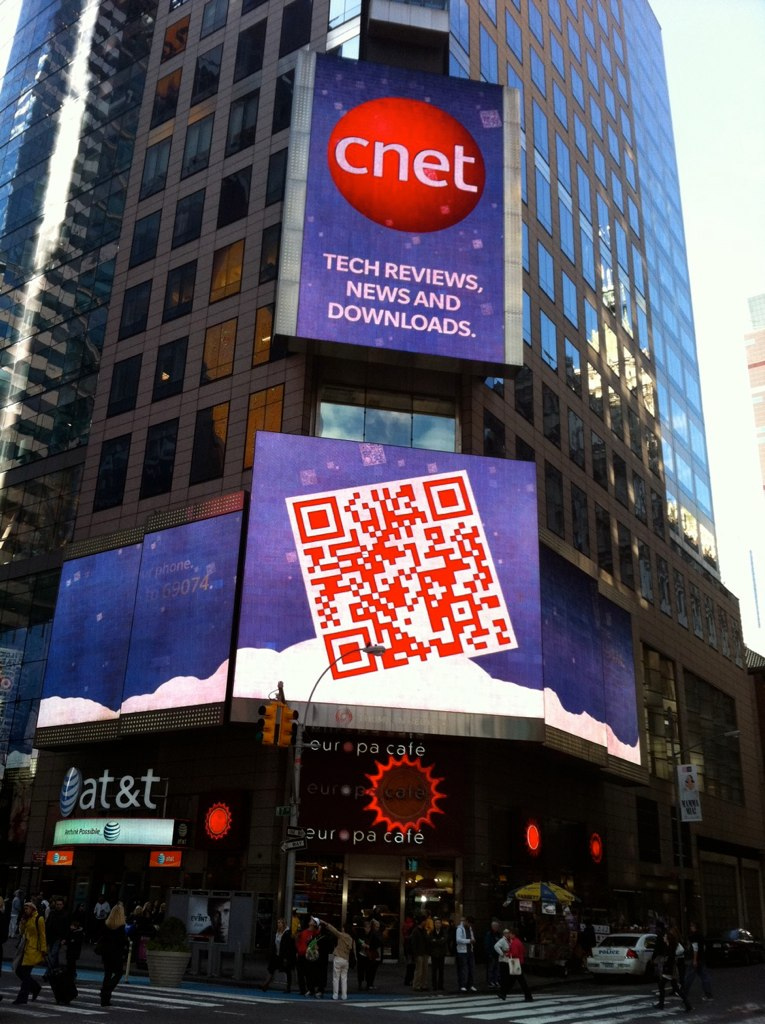QR-CODE: (292, 476, 511, 680)
